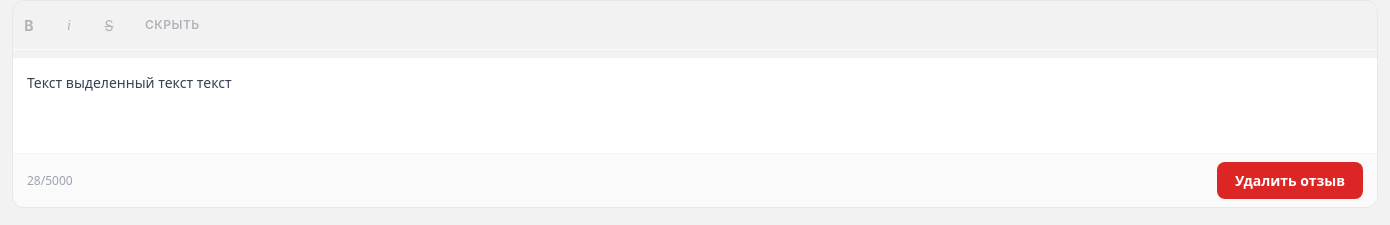
it: Форматирование текста › Корректное оборачивание выделенного текста в символы форматирования
This screenshot has width=1390, height=225.
Click the button titled "Курсив": point(69, 25) top-left (53, 9), bottom-right (85, 41)
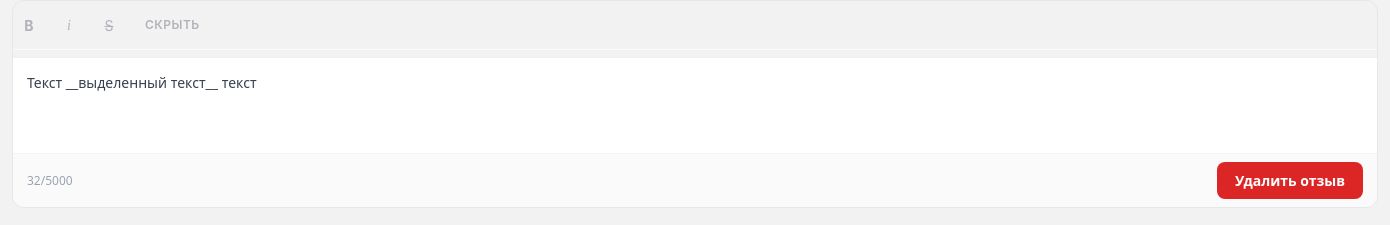
Now the text box showing "Текст выделенный текст текст" holds "Текст __выделенный текст__ текст", box top-left (13, 58), bottom-right (1377, 153)
